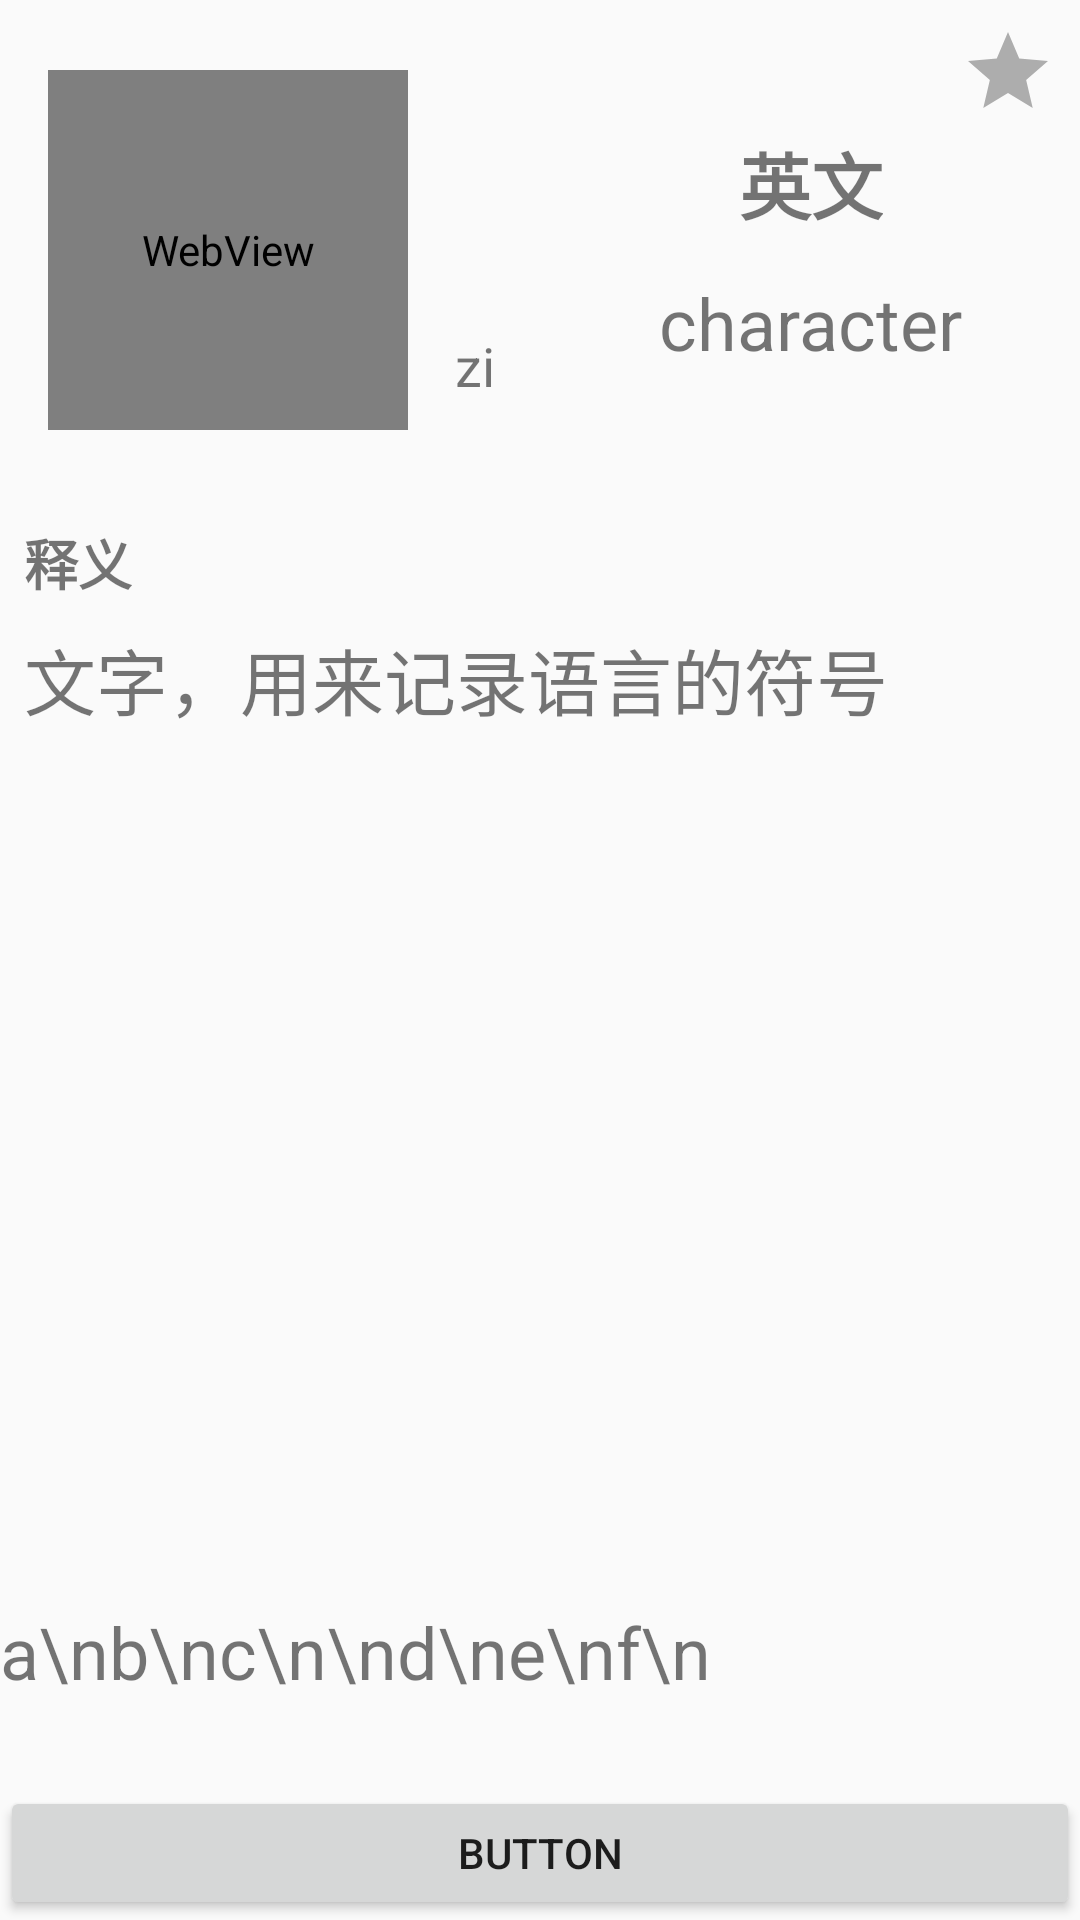

Named icons in this screenshot (1080px×1920px) and their centers, point (x, y):
star: point (1008, 70)
